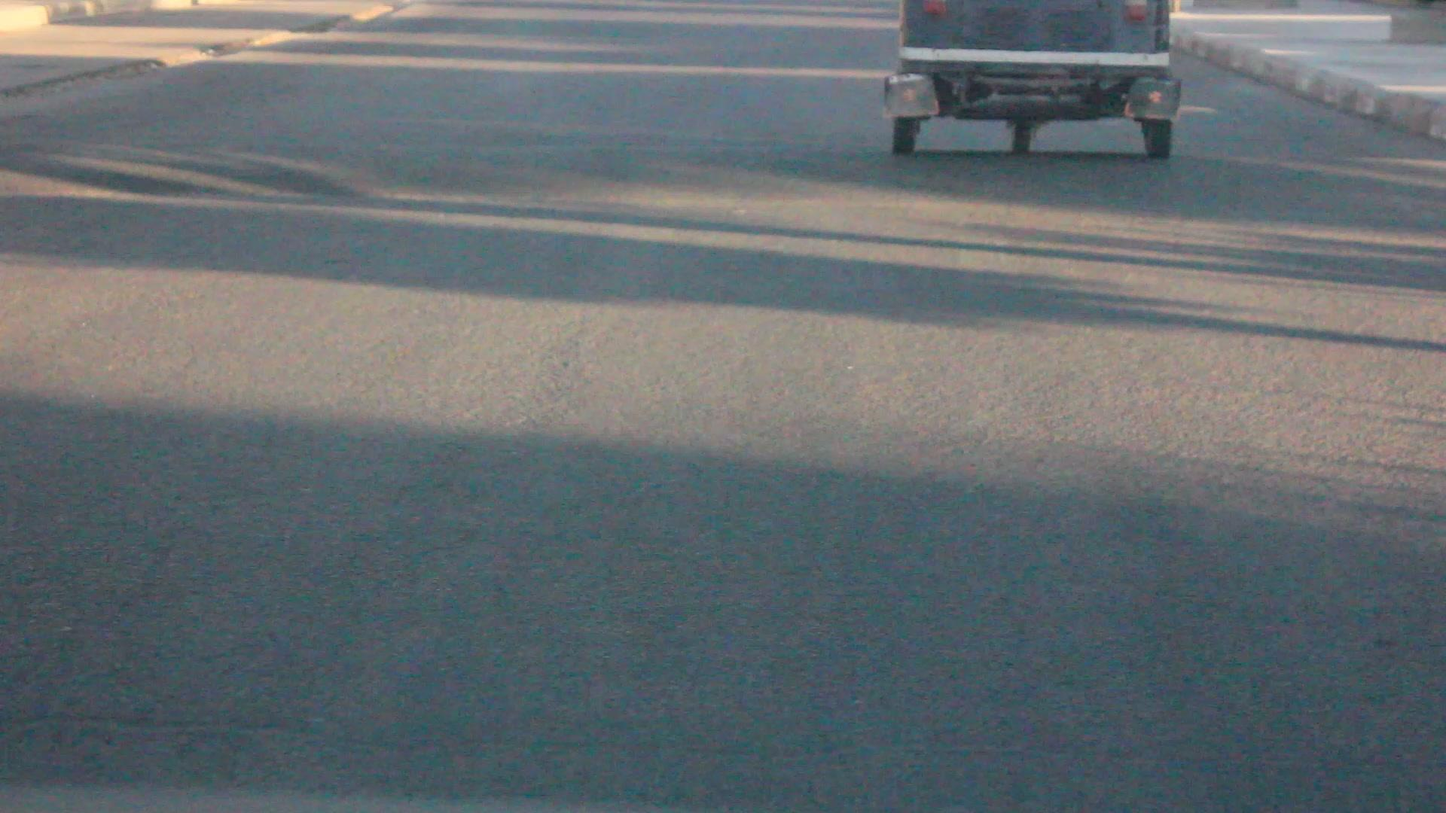Bump: (11, 141, 1446, 209)
